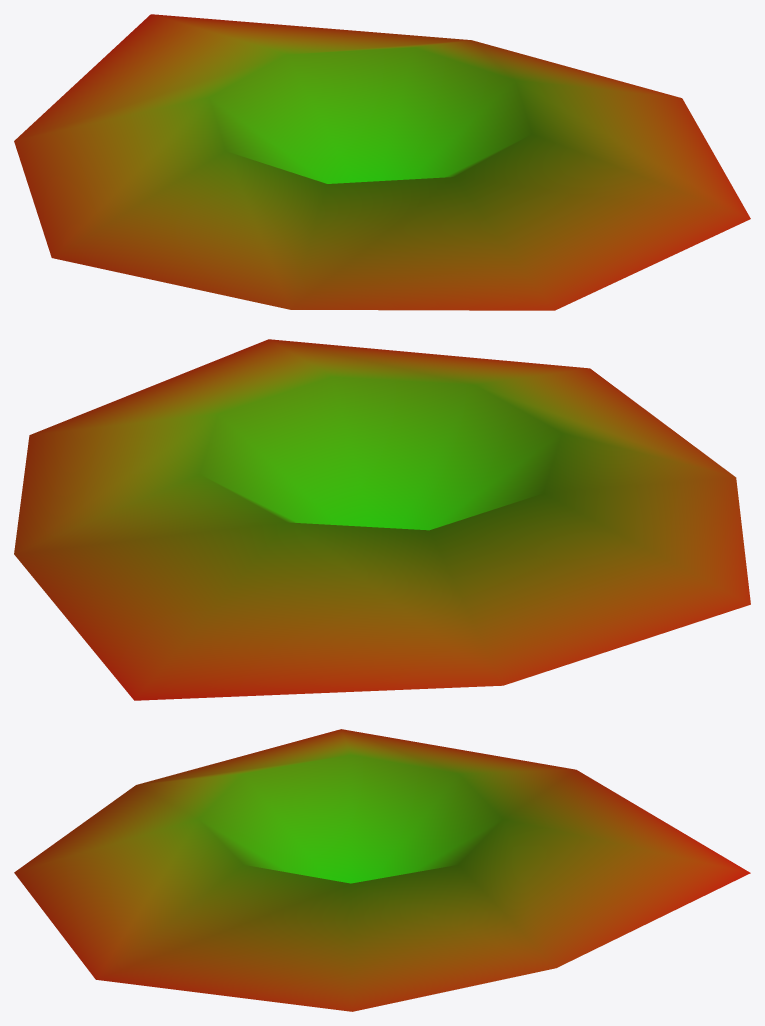
Rendered from Var5_LOD5.fbx.
The picture shows the model from 3 angles, top to bottom: view 1: azimuth 30°, elevation 25°; view 2: azimuth 150°, elevation 25°; view 3: azimuth 270°, elevation 25°; orthographic projection. The views are drawn at different scales.
Visible parts, largest first — view 1: _7470_Var5_LOD5; view 2: _7470_Var5_LOD5; view 3: _7470_Var5_LOD5.
Boxes of the visible parts, x1,y1,x2,y2 form: _7470_Var5_LOD5: (14, 14, 750, 310); _7470_Var5_LOD5: (14, 339, 750, 700); _7470_Var5_LOD5: (14, 729, 750, 1011).
Size of the model in its own units: 59.65 by 8.74 by 65.7.
